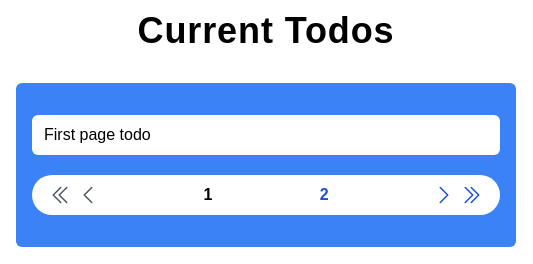
Scenario: will render the pagination › will change the todo list when clicking the next and prev button
This screenshot has width=533, height=264.
Click the button named "next page": coordinates (432, 183) [432,183,456,207]
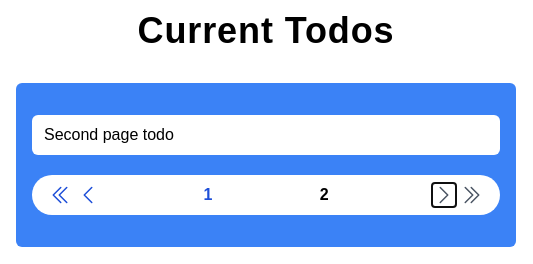
expect the link "Second page todo" is shown: met, box [32,115,500,155]
Click the button named "previous page": coordinates (76, 183) [76,183,100,207]
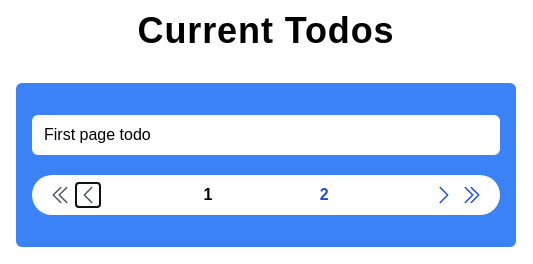
expect the link "First page todo" is shown: met, box [32,115,500,155]
